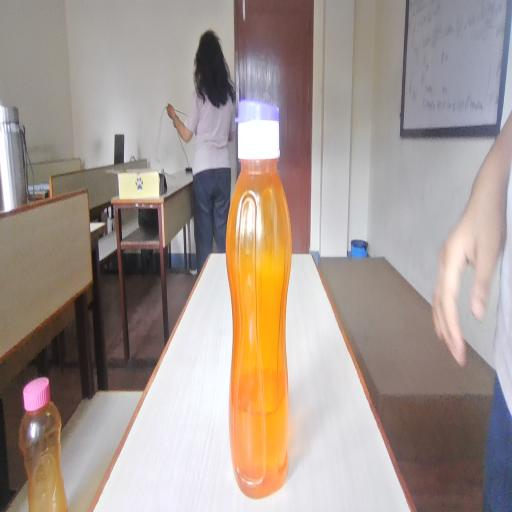Bottle: (226, 104, 317, 473), (10, 375, 79, 512)
